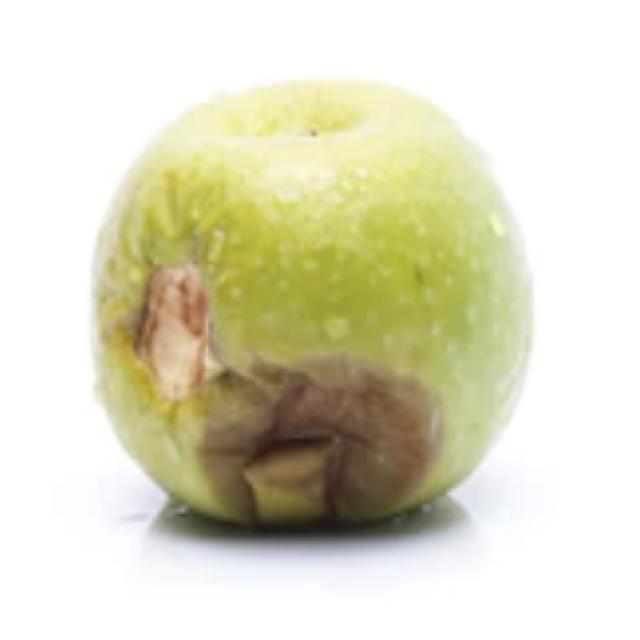Rotten: (94, 85, 534, 543)
